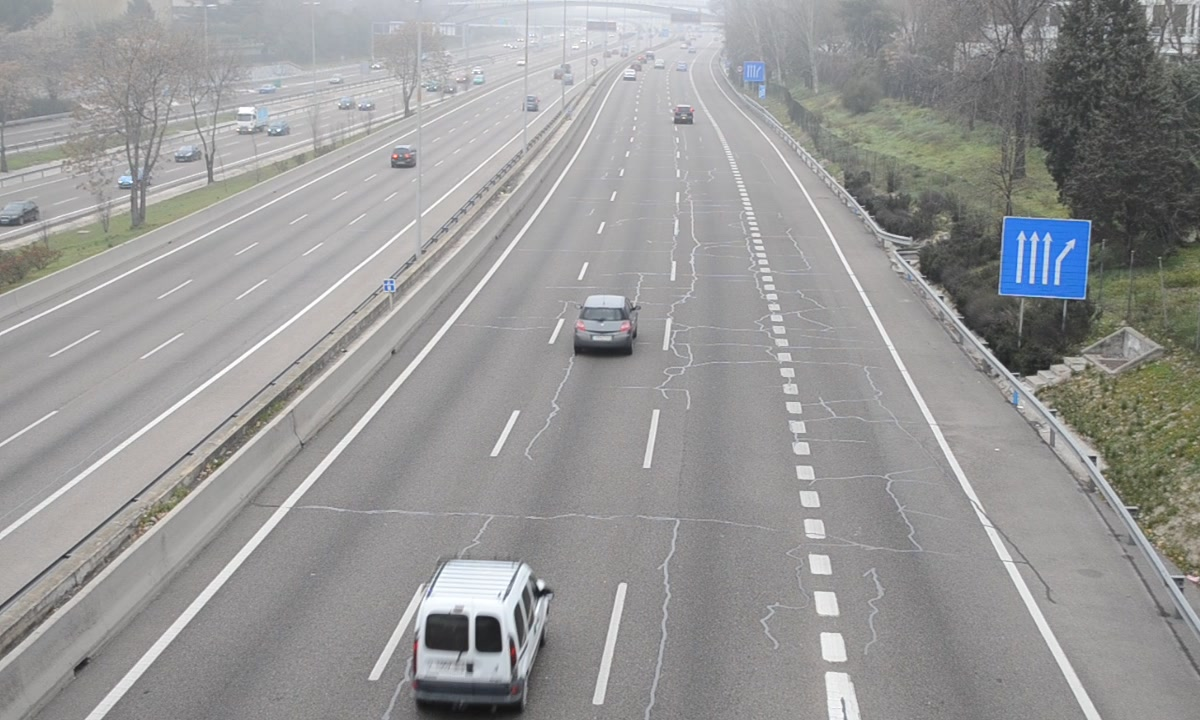car: (573, 294, 634, 351), (673, 104, 694, 124)
van: (415, 559, 551, 706)
